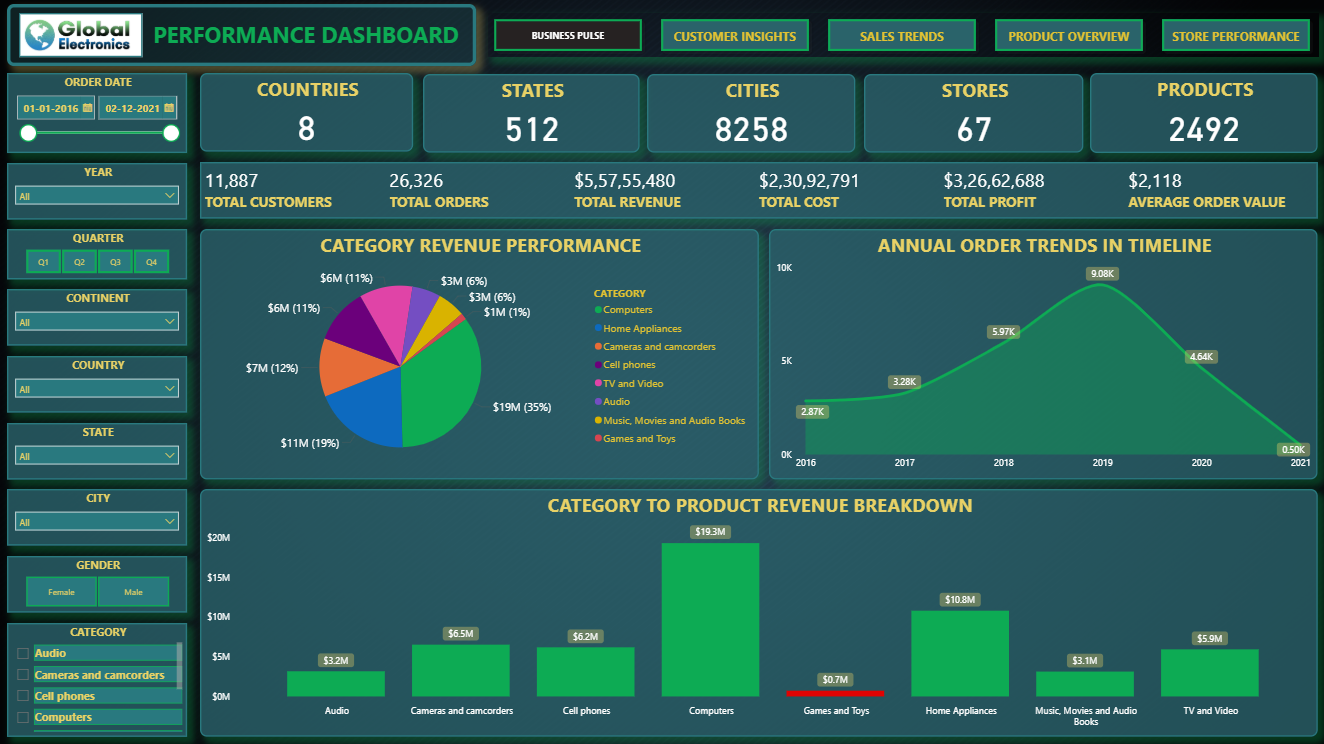

The dashboard page shown, as its layout file describes it:
{"tool":"powerbi","page":{"name":"BUSINESS PULSE","canvas":[1920,1080],"ordinal":0},"visuals":[{"type":"shape","title":"title text box","box":[10.7,6.7,679.7,90],"z":0},{"type":"textbox","box":[205.5,22.8,475.5,59.1],"z":1000},{"type":"image","title":"Global electronics icon","box":[26.9,20.1,178.7,64.5],"z":2000},{"type":"slicer","title":"COUNTRY","fields":{"Values":["customers.Country"]},"box":[10.7,517,260.6,81.9],"z":3000},{"type":"slicer","title":"CONTINENT","fields":{"Values":["customers.Continent"]},"box":[10.7,420,260.6,81.9],"z":4000},{"type":"slicer","title":"STATE","fields":{"Values":["customers.State"]},"box":[10.7,614,260.6,81.9],"z":5000},{"type":"slicer","title":"CITY","fields":{"Values":["customers.City"]},"box":[10.7,710,260.6,81.9],"z":6000},{"type":"slicer","title":"GENDER","fields":{"Values":["customers.Gender"]},"box":[10.7,807,260.6,81.9],"z":7000},{"type":"slicer","title":"ORDER DATE","fields":{"Values":["Sales.Order Date"]},"box":[10.7,107.5,260.6,115.5],"z":8000},{"type":"slicer","title":"CATEGORY","fields":{"Values":["Products.Category"]},"box":[10.7,904,260.6,165.2],"z":9000},{"type":"slicer","title":"QUARTER","fields":{"Values":["Dim_Date.Quarter"]},"box":[10.7,333,260.6,72.5],"z":10000},{"type":"slicer","title":"YEAR","fields":{"Values":["Dim_Date.Year"]},"box":[10.7,237,260.6,81.9],"z":11000},{"type":"card","title":"COUNTRIES","fields":{"Values":["Count(customers.Country)"]},"box":[290.1,107.5,309,114.2],"z":12000},{"type":"card","title":"STATES","fields":{"Values":["Count(customers.State)"]},"box":[612.5,108.8,314.3,114.2],"z":13000},{"type":"card","title":"CITIES","fields":{"Values":["Count(customers.City)"]},"box":[937.6,108.8,302.2,114.2],"z":14000},{"type":"card","title":"STORES","fields":{"Values":["Store Analysis.Total Stores"]},"box":[1251.9,108.8,318.4,114.2],"z":15000},{"type":"card","title":"PRODUCTS ","fields":{"Values":["Product Analysis.Total Products Sold"]},"box":[1579.7,107.5,330.4,115.5],"z":16000},{"type":"pieChart","title":"CATEGORY REVENUE PERFORMANCE","fields":{"Y":["Financial Analysis.Total Revenue"],"Category":["Products.Category"]},"box":[290.1,333.1,810,362.7],"z":17000},{"type":"clusteredColumnChart","title":"CATEGORY TO PRODUCT REVENUE BREAKDOWN","fields":{"Category":["Products.Category","Products.Subcategory","Products.Product Name"],"Y":["Financial Analysis.Total Revenue"]},"box":[290.1,710.6,1620,358.7],"z":18000},{"type":"areaChart","title":"ANNUAL ORDER TRENDS IN TIMELINE","fields":{"Category":["Dim_Date.Year","Dim_Date.Quarter","Dim_Date.Month Name","Dim_Date.Day"],"Y":["Financial Analysis.Total Orders"]},"box":[1114.9,333.1,795.2,362.7],"z":19000},{"type":"multiRowCard","fields":{"Values":["Customer Analysis.Total Customers","Financial Analysis.Total Orders","Financial Analysis.Total Revenue","Financial Analysis.Total Cost","Financial Analysis.Total Profit","Financial Analysis.Average Order Value"]},"box":[290.1,236.4,1620,81.9],"z":20000},{"type":"pageNavigator","box":[706.6,20.1,1203.6,64.5],"z":20001}]}

Visuals, with their boxes in screenshot pixels (x1, y1, x2, y2), scaled from the page's 1920x1080 canvas onto the 1324x744 screenshot:
"title text box" shape: [7,5,476,67]
textbox: [142,16,470,56]
"Global electronics icon" image: [19,14,142,58]
"COUNTRY" slicer: [7,356,187,413]
"CONTINENT" slicer: [7,289,187,346]
"STATE" slicer: [7,423,187,479]
"CITY" slicer: [7,489,187,546]
"GENDER" slicer: [7,556,187,612]
"ORDER DATE" slicer: [7,74,187,154]
"CATEGORY" slicer: [7,623,187,737]
"QUARTER" slicer: [7,229,187,279]
"YEAR" slicer: [7,163,187,220]
"COUNTRIES" card: [200,74,413,153]
"STATES" card: [422,75,639,154]
"CITIES" card: [647,75,855,154]
"STORES" card: [863,75,1083,154]
"PRODUCTS " card: [1089,74,1317,154]
"CATEGORY REVENUE PERFORMANCE" pieChart: [200,229,759,479]
"CATEGORY TO PRODUCT REVENUE BREAKDOWN" clusteredColumnChart: [200,490,1317,737]
"ANNUAL ORDER TRENDS IN TIMELINE" areaChart: [769,229,1317,479]
multiRowCard - Customer Analysis.Total Customers x Financial Analysis.Total Orders: [200,163,1317,219]
pageNavigator: [487,14,1317,58]
